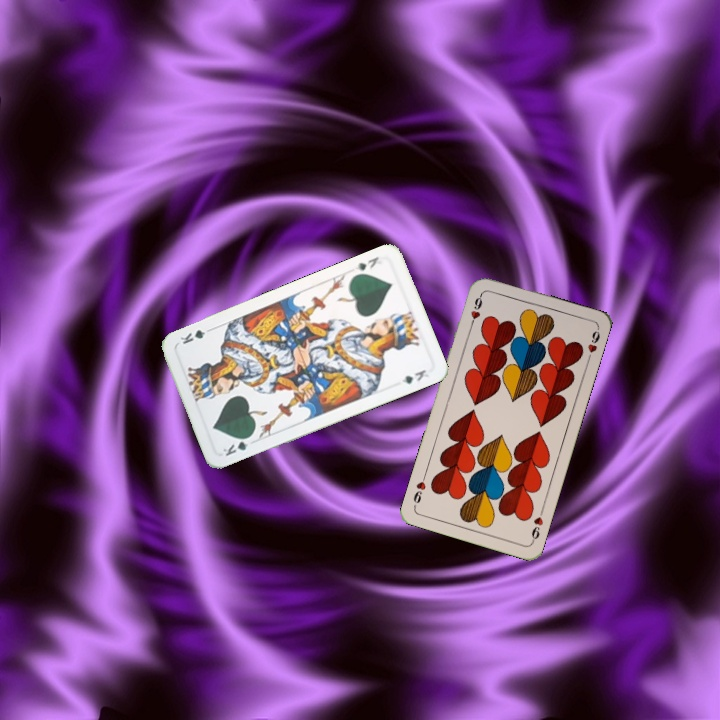GK: (219, 432, 255, 459), (351, 253, 386, 273)
H9: (527, 505, 546, 545), (466, 290, 485, 329)
